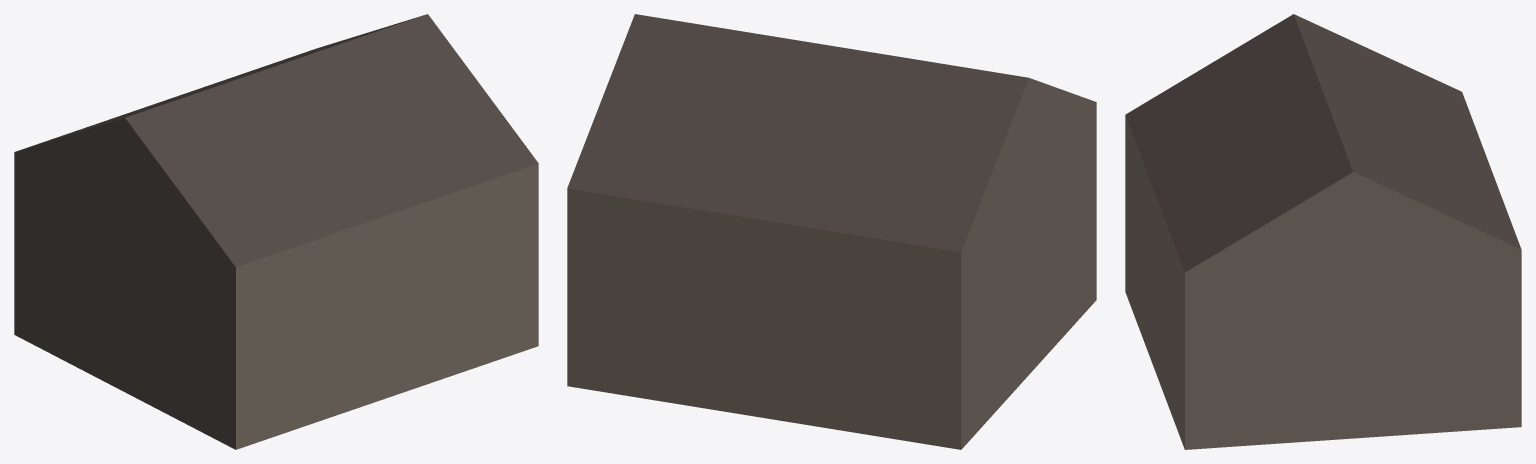
3 views of the same model, side by side, from view 1: azimuth 30°, elevation 25°; view 2: azimuth 150°, elevation 25°; view 3: azimuth 270°, elevation 25° (orthographic). The views are drawn at different scales.
Parts seen in each view (by area): view 1: HP-w369237931; view 2: HP-w369237931; view 3: HP-w369237931.
Boxes of the visible parts, x1,y1,x2,y2 form: HP-w369237931: [14, 14, 538, 449]; HP-w369237931: [567, 14, 1096, 449]; HP-w369237931: [1125, 14, 1521, 449].
Bounding box in the file's own units: 19.69 × 13.53 × 18.23.
